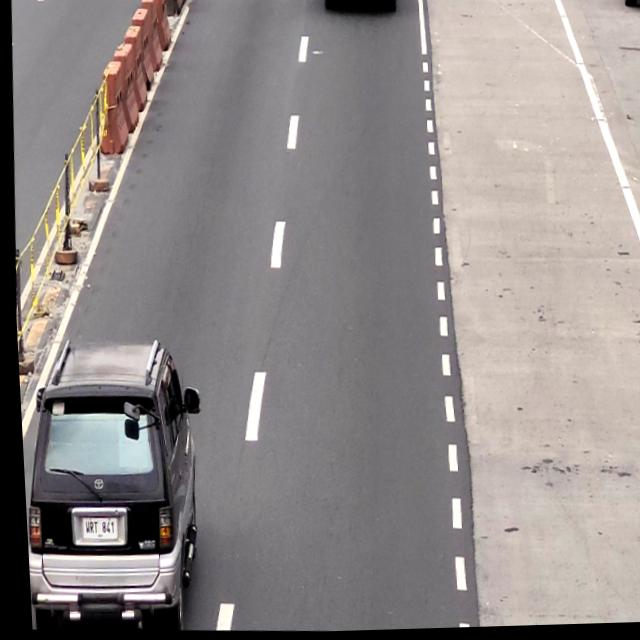Car: (15, 341, 204, 634)
License-Plate: (75, 516, 114, 542)
